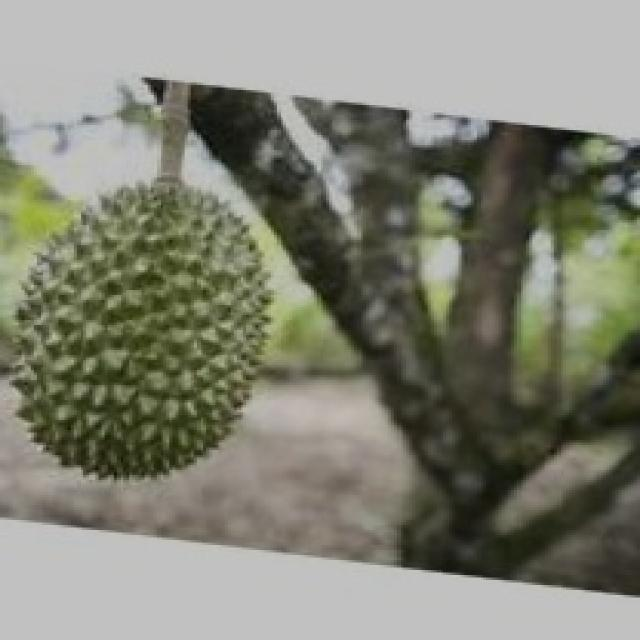fruit: (0, 132, 314, 508)
